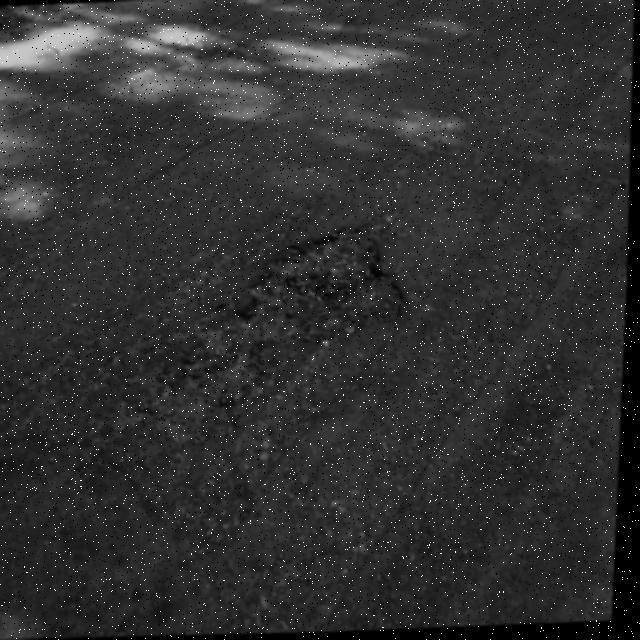pothole: (220, 218, 414, 348)
